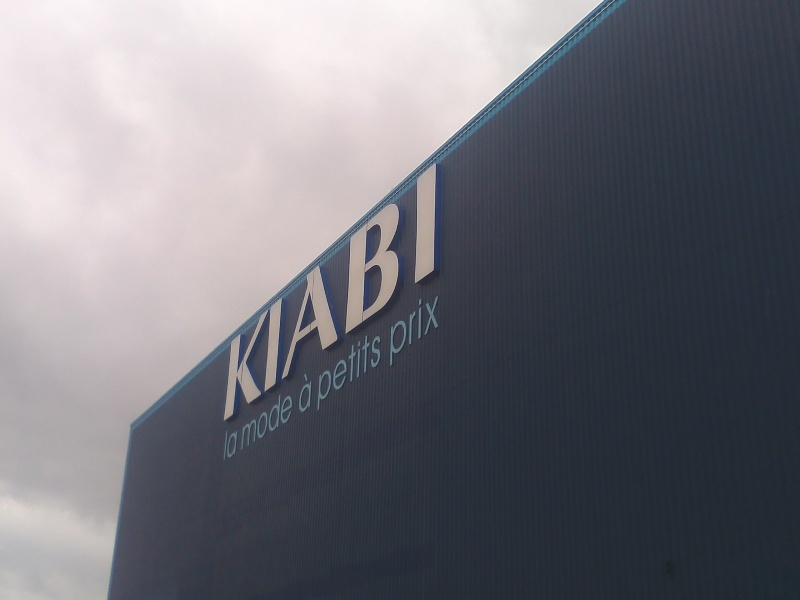text: (241, 160, 256, 424), (257, 160, 272, 424), (273, 160, 288, 424), (289, 160, 304, 424), (305, 160, 320, 424), (321, 160, 336, 424), (337, 160, 352, 424), (353, 160, 368, 424), (369, 160, 384, 424), (385, 160, 400, 424), (401, 160, 416, 424), (417, 160, 432, 424), (232, 160, 240, 424), (433, 160, 438, 424), (321, 327, 336, 412), (337, 327, 352, 412), (353, 327, 368, 412), (401, 286, 416, 368), (417, 286, 432, 368), (369, 327, 383, 412), (257, 387, 272, 452), (273, 387, 288, 452), (389, 286, 400, 368), (243, 387, 256, 452), (433, 286, 440, 368), (225, 425, 240, 463), (305, 370, 313, 415), (289, 387, 294, 452), (299, 370, 304, 415), (319, 327, 320, 412)
